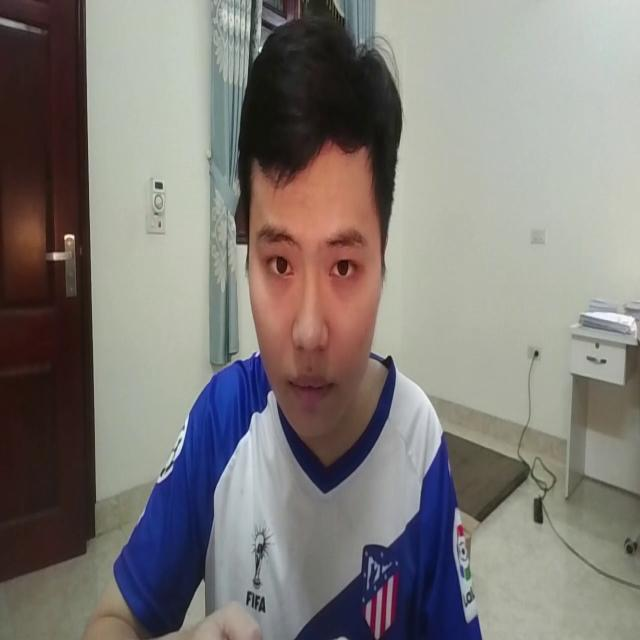student: (84, 6, 502, 640)
